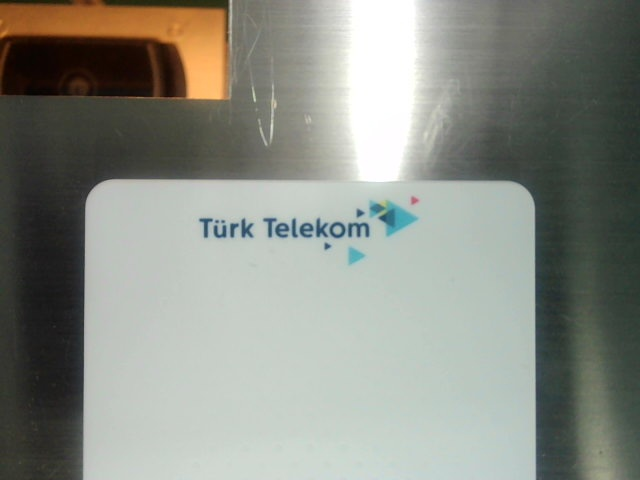AQ_TURKTelekom: (196, 186, 453, 269)
